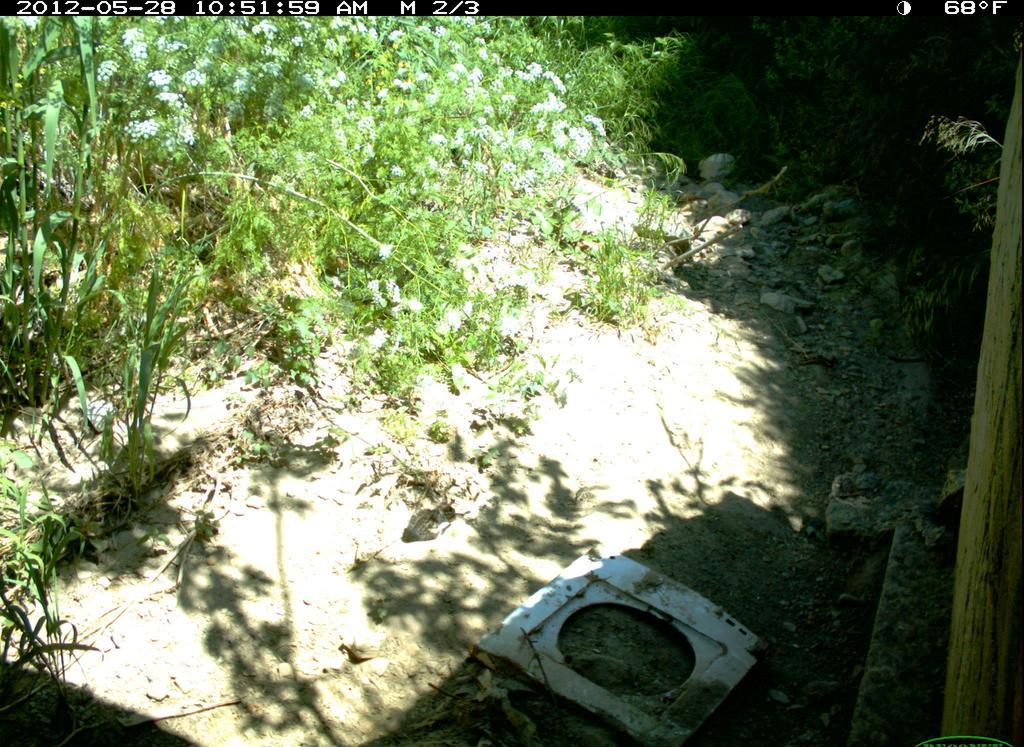cat: (401, 487, 466, 547)
